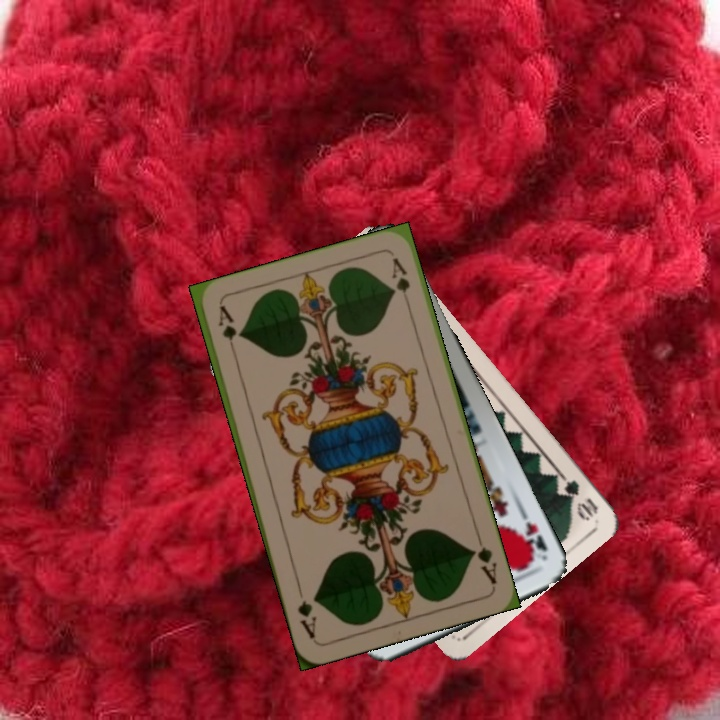G10: (556, 470, 601, 524)
GA: (467, 530, 500, 587), (214, 302, 241, 361)
HK: (516, 506, 550, 563)
